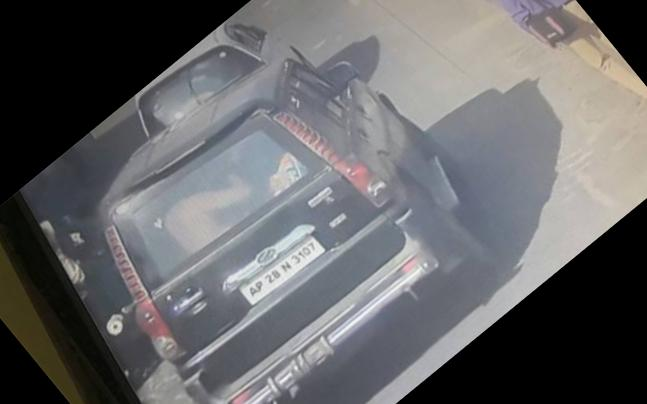plate: (220, 209, 343, 325)
